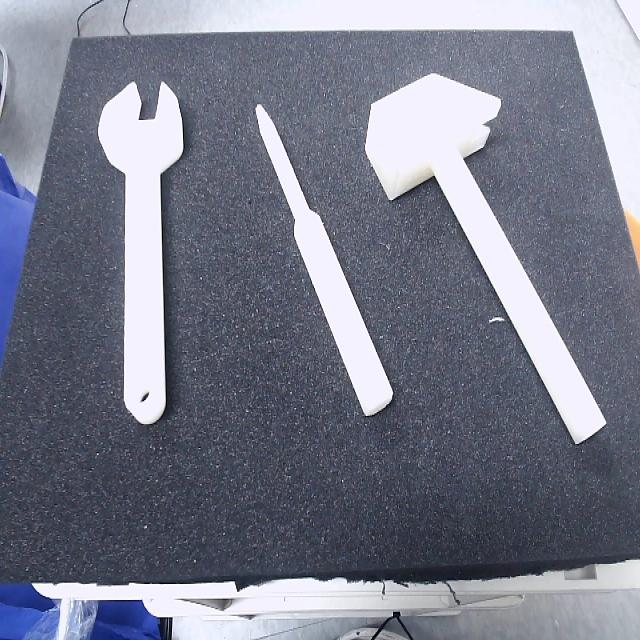Driver: (254, 107, 394, 417)
Hammer: (364, 73, 607, 448)
Spanner: (96, 83, 184, 425)
